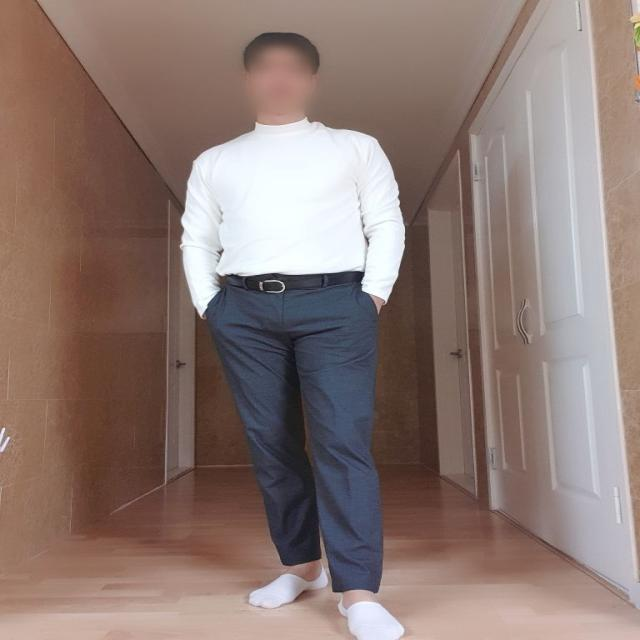longsleeve: (180, 120, 403, 322)
slacks: (204, 271, 386, 594)
